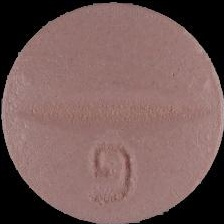69189-0325: (0, 0, 224, 224)
